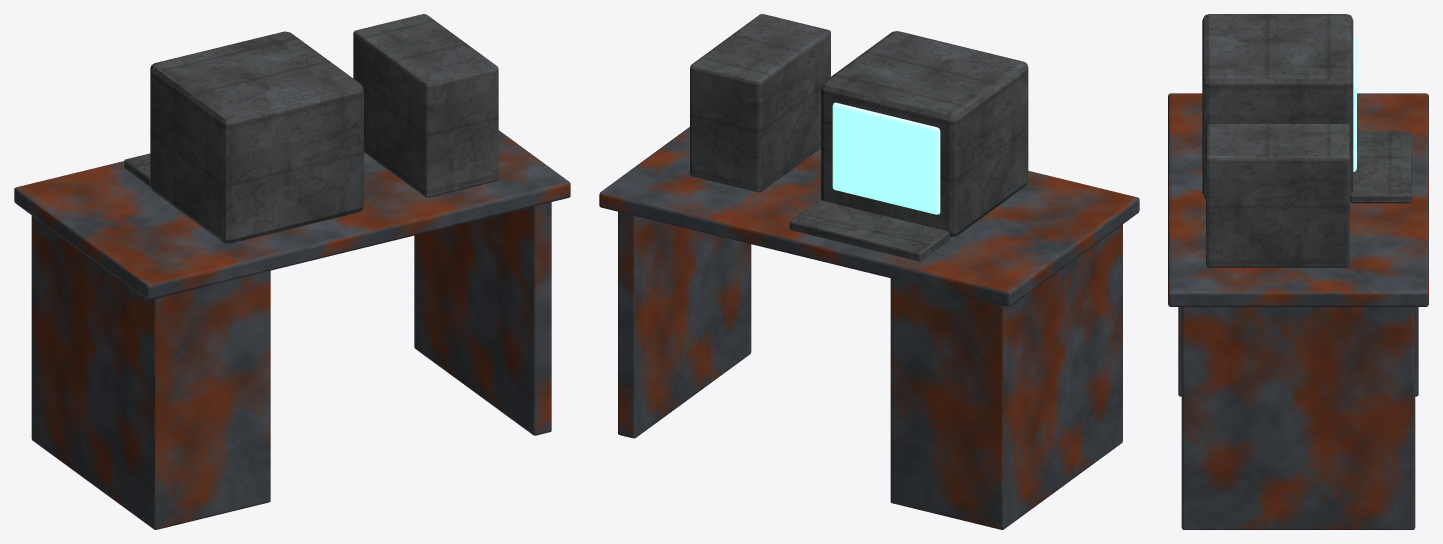
File: prop_computer_terminal.glb
3 views of the same model, side by side, from view 1: azimuth 30°, elevation 25°; view 2: azimuth 150°, elevation 25°; view 3: azimuth 270°, elevation 25° (orthographic). The views are drawn at different scales.
Visible parts, largest first — view 1: PedestalL, CRTBody, DeskTop, LegR, TowerUnit; view 2: PedestalL, DeskTop, CRTBody, LegR, TowerUnit, CRTScreen, Keyboard; view 3: LegR, DeskTop, TowerUnit, CRTBody, Keyboard, PedestalL, CRTScreen.
Boxes of the visible parts, bbox=[...] form: PedestalL: bbox=[31, 215, 270, 529]; CRTBody: bbox=[150, 31, 363, 243]; DeskTop: bbox=[14, 130, 570, 299]; LegR: bbox=[414, 202, 551, 435]; TowerUnit: bbox=[353, 14, 498, 197]; PedestalL: bbox=[890, 224, 1122, 529]; DeskTop: bbox=[599, 127, 1139, 306]; CRTBody: bbox=[821, 31, 1028, 236]; LegR: bbox=[618, 211, 751, 438]; TowerUnit: bbox=[690, 14, 830, 192]; CRTScreen: bbox=[832, 102, 940, 214]; Keyboard: bbox=[789, 199, 950, 261]; LegR: bbox=[1181, 307, 1415, 529]; DeskTop: bbox=[1168, 93, 1428, 306]; TowerUnit: bbox=[1206, 124, 1349, 267]; CRTBody: bbox=[1202, 14, 1353, 198]; Keyboard: bbox=[1350, 131, 1411, 203]; PedestalL: bbox=[1178, 307, 1418, 396]; CRTScreen: bbox=[1353, 35, 1356, 171].
Bounding box in the file's own units: 1.38 × 1.19 × 0.76.
Materials: 3 (2 with a texture image).
